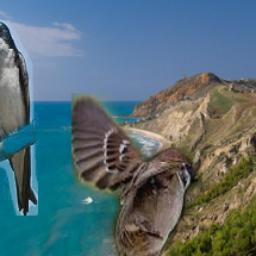Sparrow: (71, 93, 202, 256)
Swallow: (0, 20, 37, 216)
